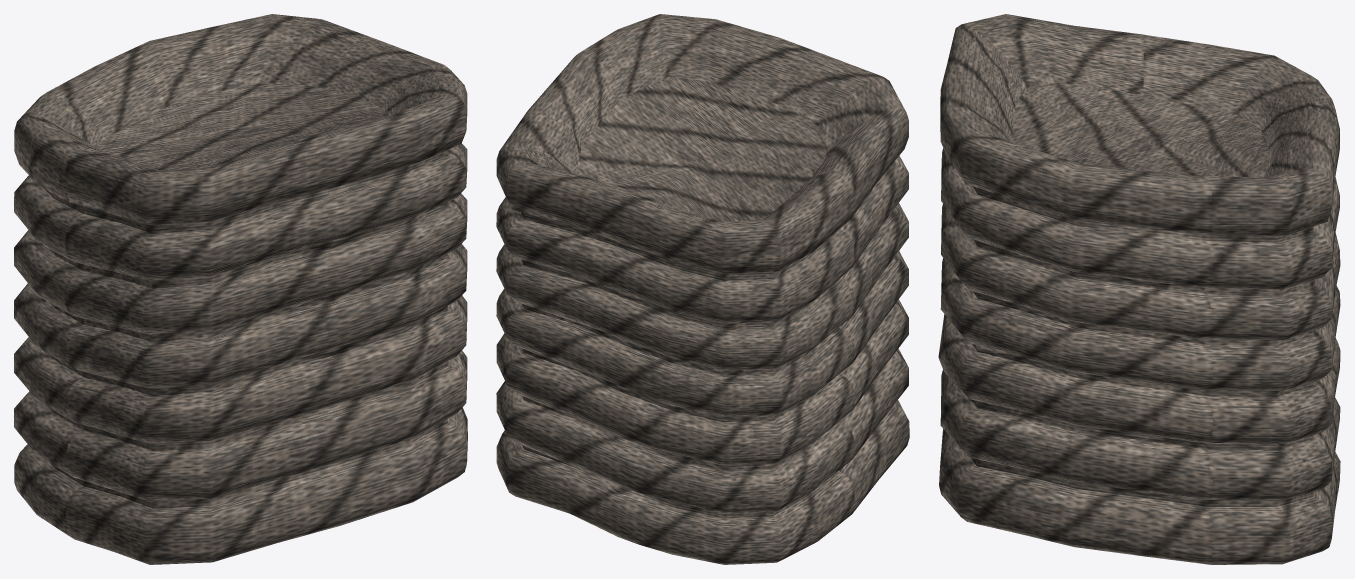
Rendered from SM_Rope_Sleeve_Beam.fbx.
The picture shows the model from 3 angles, left to right: view 1: azimuth 30°, elevation 25°; view 2: azimuth 150°, elevation 25°; view 3: azimuth 270°, elevation 25°; orthographic projection. The views are drawn at different scales.
Visible parts, largest first — view 1: SM_Rope_Sleeve_Beam_LOD0; view 2: SM_Rope_Sleeve_Beam_LOD0; view 3: SM_Rope_Sleeve_Beam_LOD0.
Boxes of the visible parts, left/top/right/bottom form: SM_Rope_Sleeve_Beam_LOD0: left=14, top=14, right=467, bottom=564; SM_Rope_Sleeve_Beam_LOD0: left=496, top=14, right=909, bottom=564; SM_Rope_Sleeve_Beam_LOD0: left=938, top=14, right=1340, bottom=564.
Bounding box in the file's own units: 32.62 × 31.51 × 38.79.
